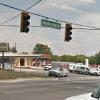Traffic light: (14, 5, 84, 46)
